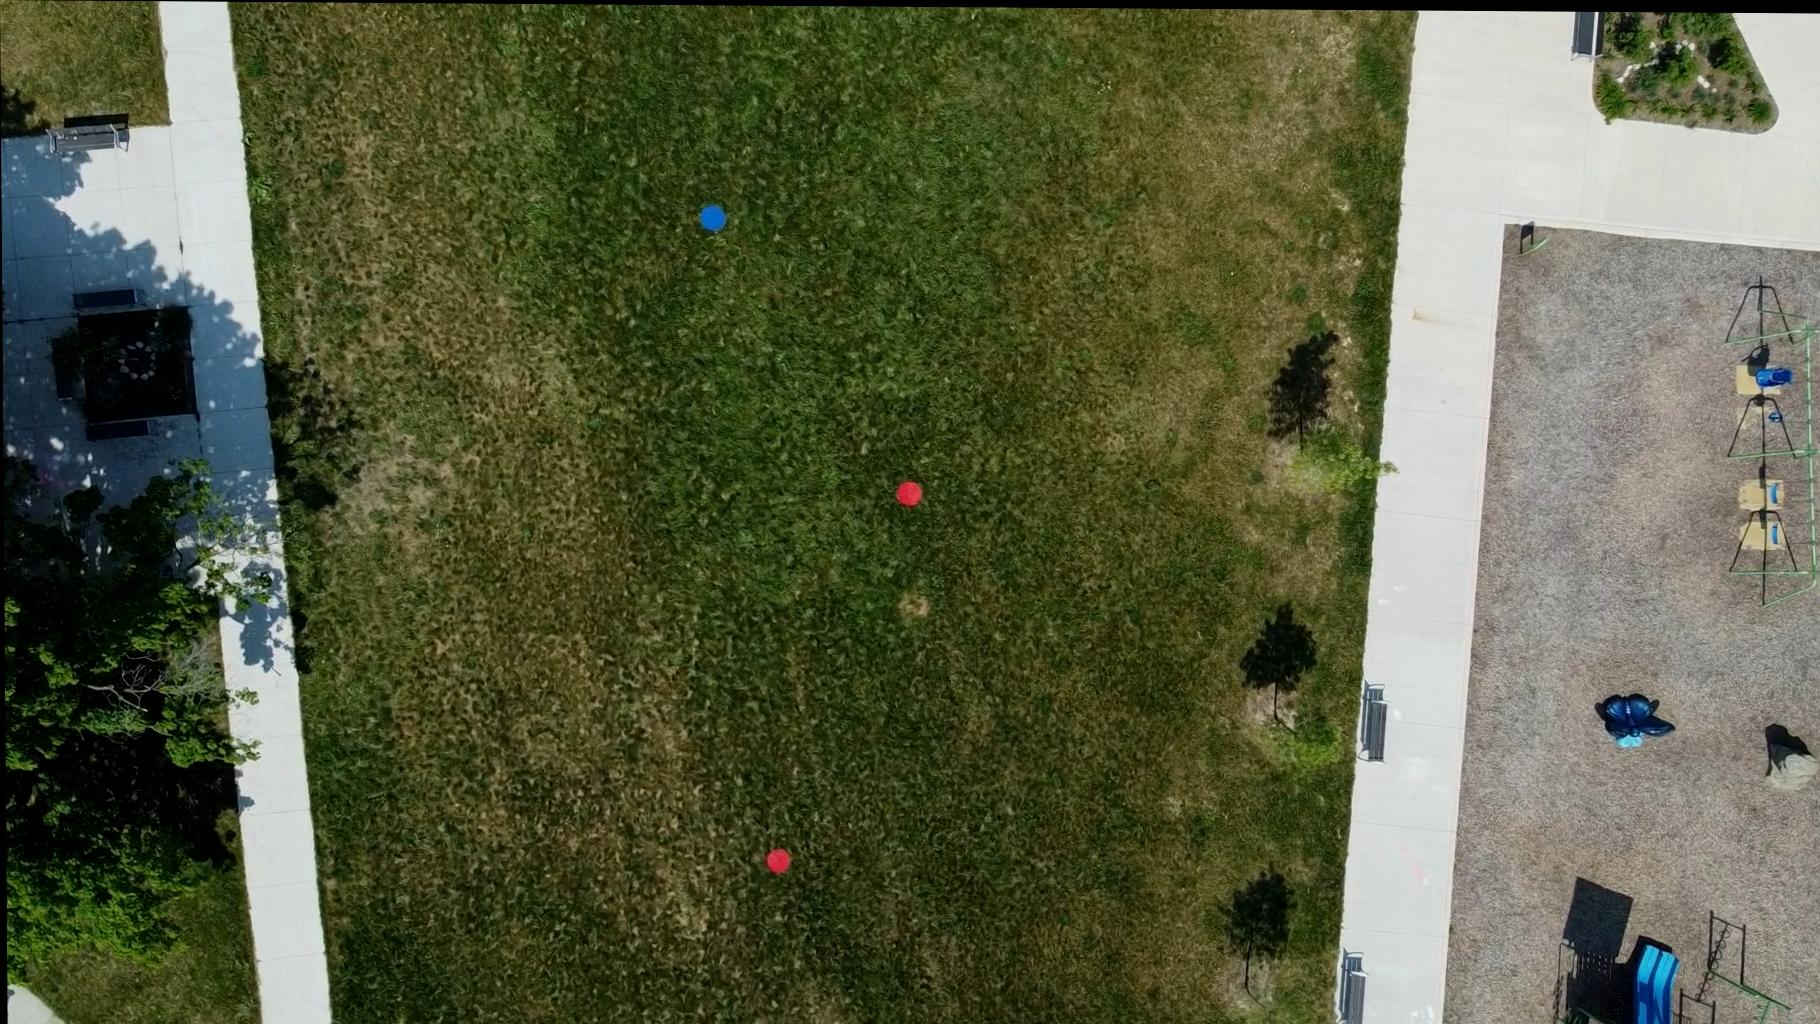Blue: (698, 203, 726, 230)
Red: (894, 479, 923, 506), (764, 846, 791, 872)
